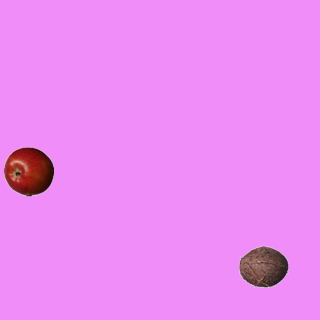Apple Braeburn: (3, 146, 53, 196)
Cocos: (238, 241, 288, 291)
